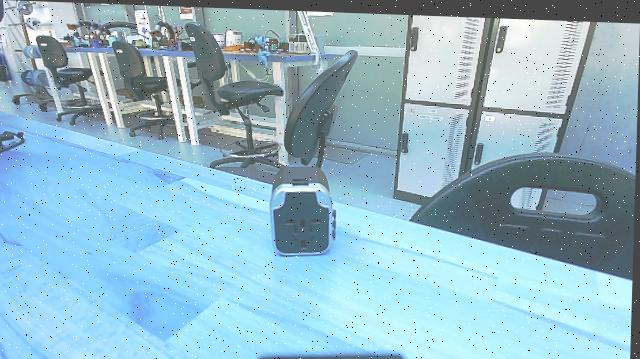adapter: (268, 163, 341, 259)
